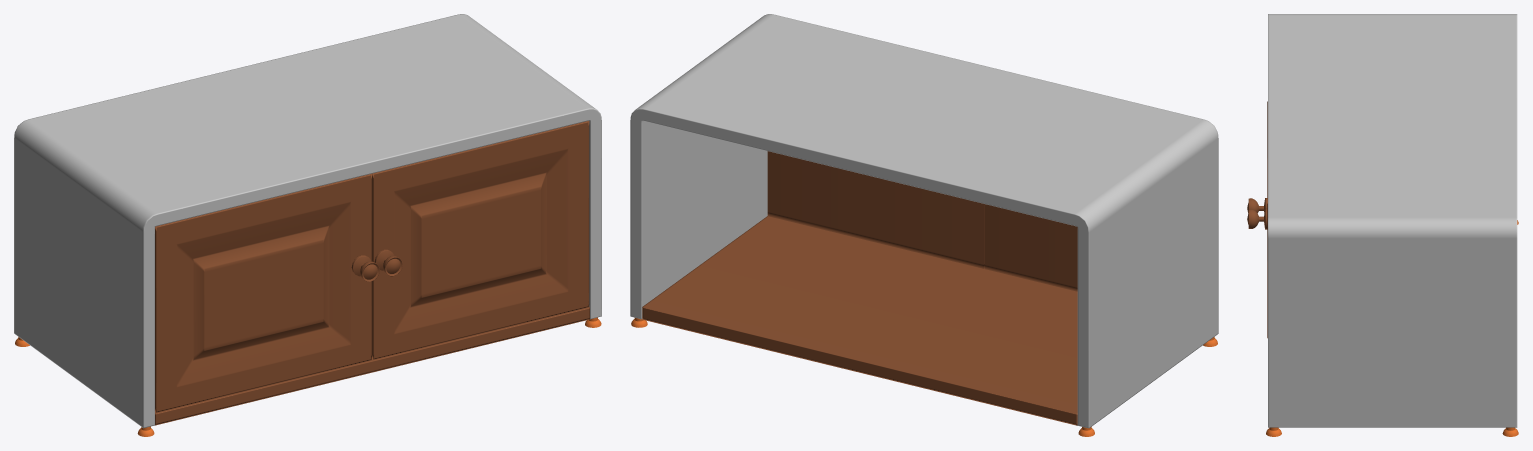
The model's file is table_tv.fbx.
3 views of the same model, side by side, from view 1: azimuth 30°, elevation 25°; view 2: azimuth 150°, elevation 25°; view 3: azimuth 270°, elevation 25° (orthographic). The views are drawn at different scales.
Visible parts, largest first — view 1: polySurface11; view 2: polySurface11; view 3: polySurface11.
Part boxes in pixels (bbox=[...]): polySurface11: bbox=[14, 14, 601, 436]; polySurface11: bbox=[630, 14, 1218, 436]; polySurface11: bbox=[1247, 14, 1518, 436].
Bounding box in the file's own units: 1.51 × 0.6872 × 0.7994.
